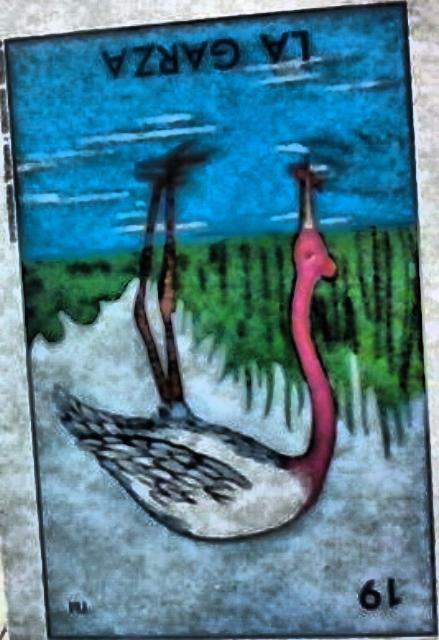El Garza: (6, 2, 435, 636)
